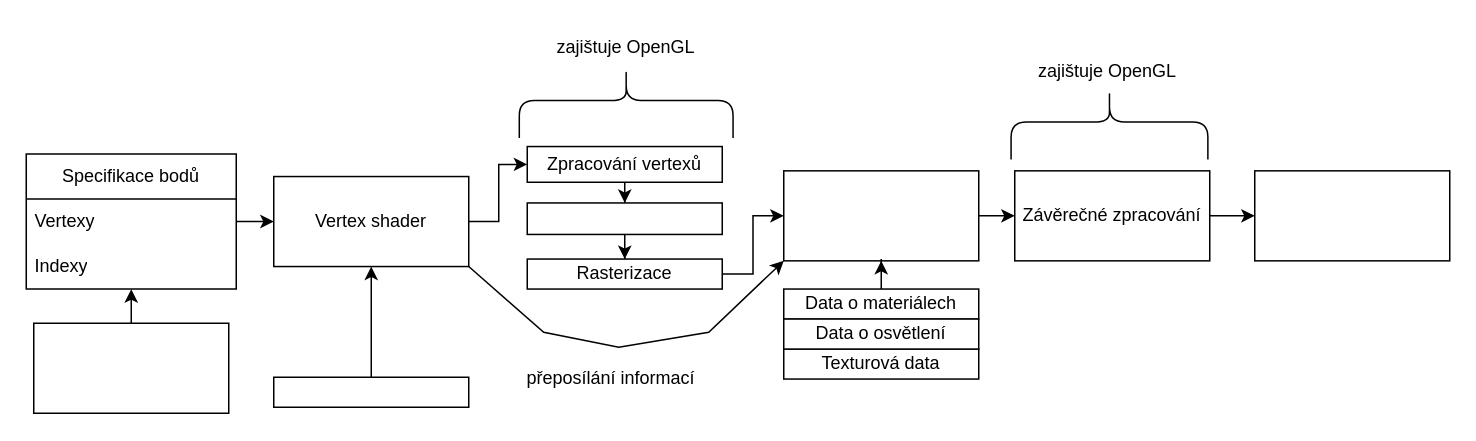
The diagram is 1476 pixels wide and 441 high, and some of its shapes have lost their labels. Each missing label, with the centre of its shape:
Body modelu: the point at 130,367
Fragment shader: the point at 880,215
Sbírání tvarů: the point at 624,217
Transformační matice: the point at 370,391
Vykreslení na okno: the point at 1351,215
